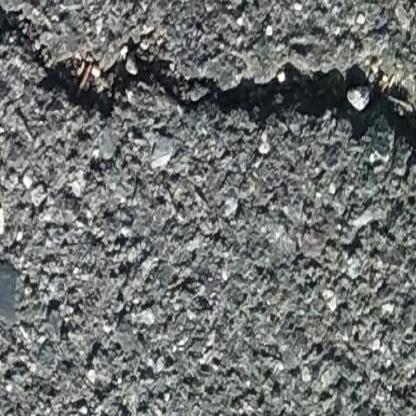Cracks: (0, 0, 416, 174)
